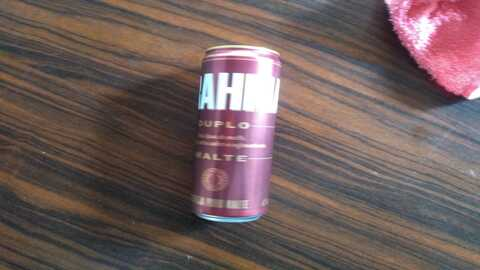duplo_malte: (188, 46, 288, 216)
